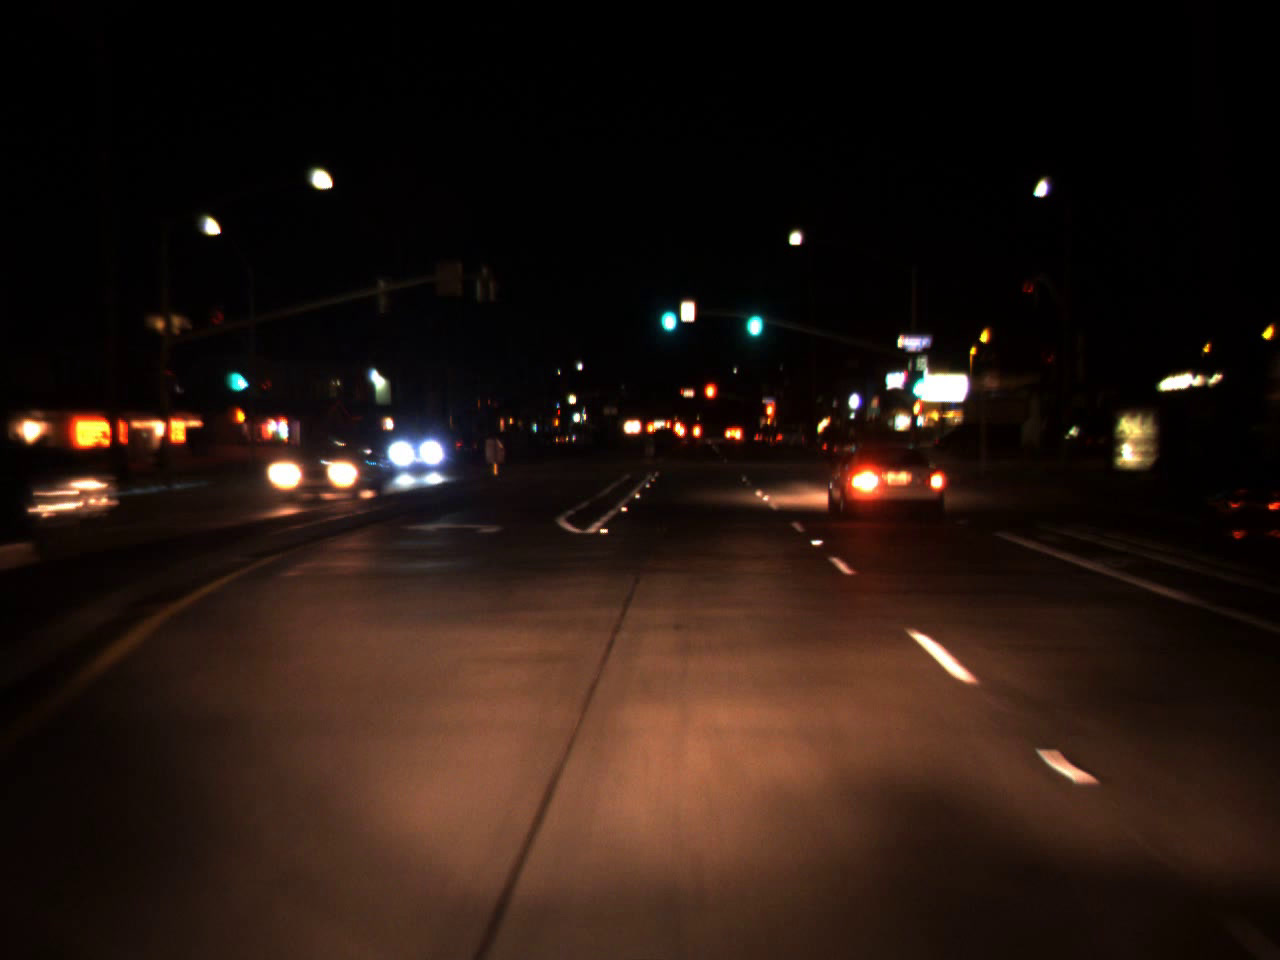go: (741, 287, 766, 344), (655, 287, 680, 338), (225, 350, 248, 398), (907, 363, 923, 402)
stop: (702, 380, 718, 417), (762, 400, 775, 427)
